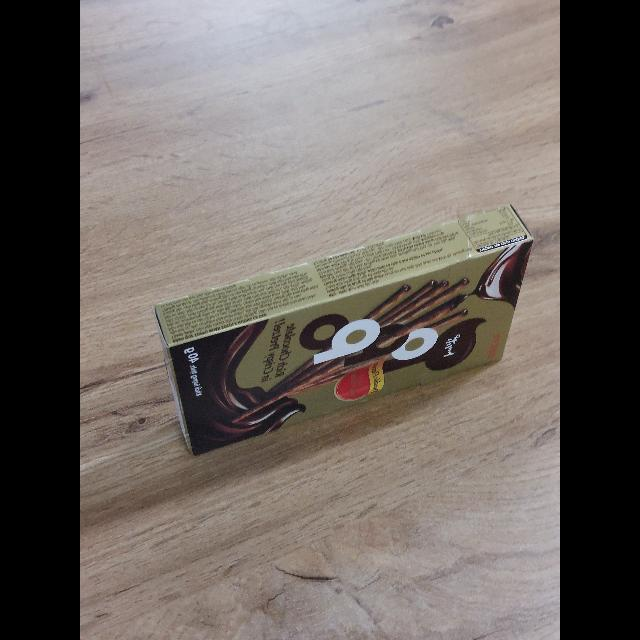banh_toppo_socola: (154, 204, 534, 458)
